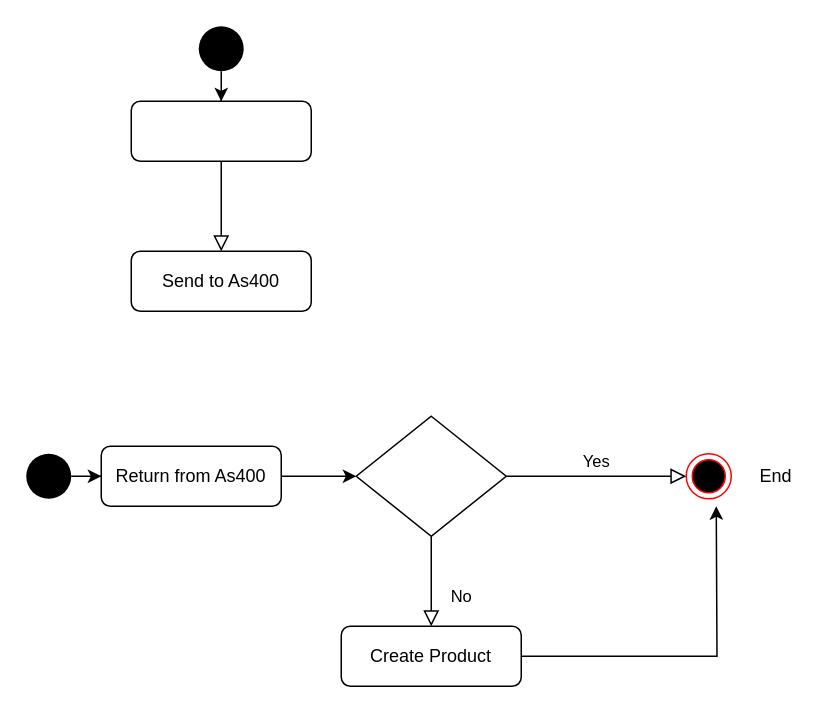
This 831x713 diagram has some shape labels left out. Each missing label, with the centre of its shape:
"Import File XLS" goes at (220,130).
"Product Exists?" goes at (430,475).
